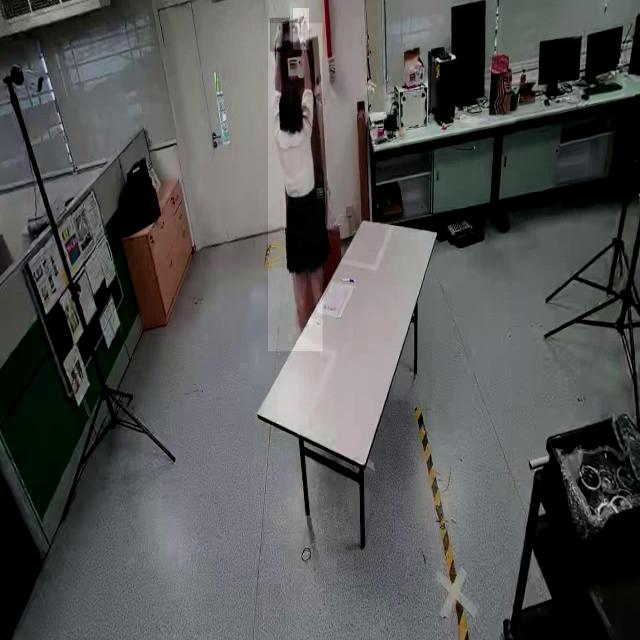hand_glove: (293, 8, 309, 51), (270, 18, 290, 52)
head_nohelmet: (279, 81, 302, 106)
person: (268, 23, 322, 352)
